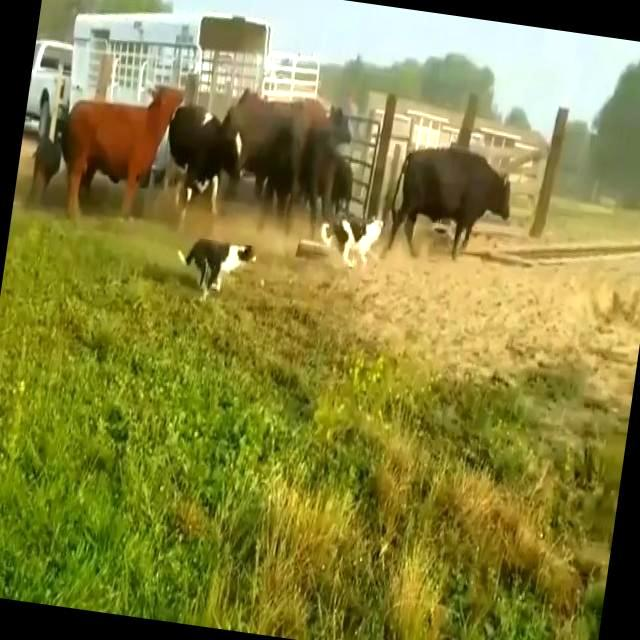COW: (364, 104, 534, 270), (34, 79, 182, 253), (82, 124, 136, 146)
